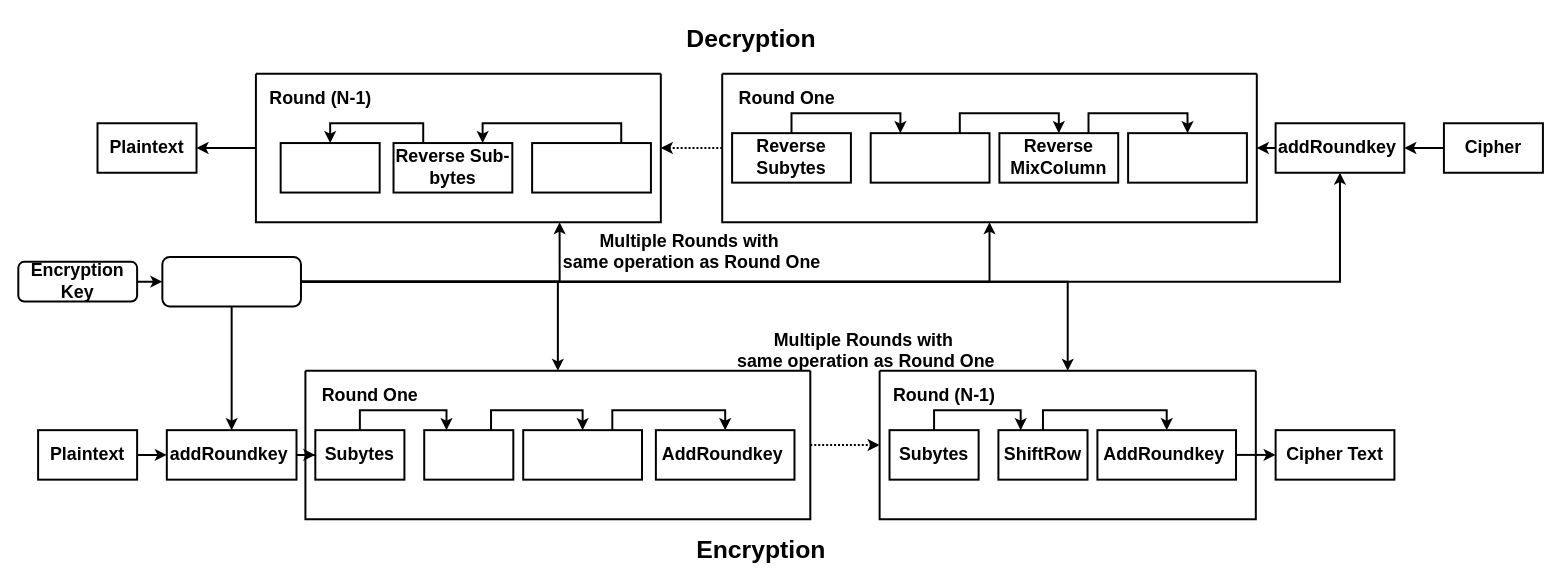
The diagram is 1560 pixels wide and 585 high, and some of its shapes have lost their labels. Here are the shapes that lost their labels. From the top down, the box of each, then its label:
(279, 142, 380, 193): Add Roundkey
(531, 142, 651, 193): Reverse Shift Row
(869, 132, 990, 183): Reverse ShifrRow
(1127, 132, 1247, 183): Reverse Shift Rows
(161, 255, 301, 307): Key Extension
(423, 429, 514, 480): ShifrRow
(522, 429, 643, 480): MixColumn
